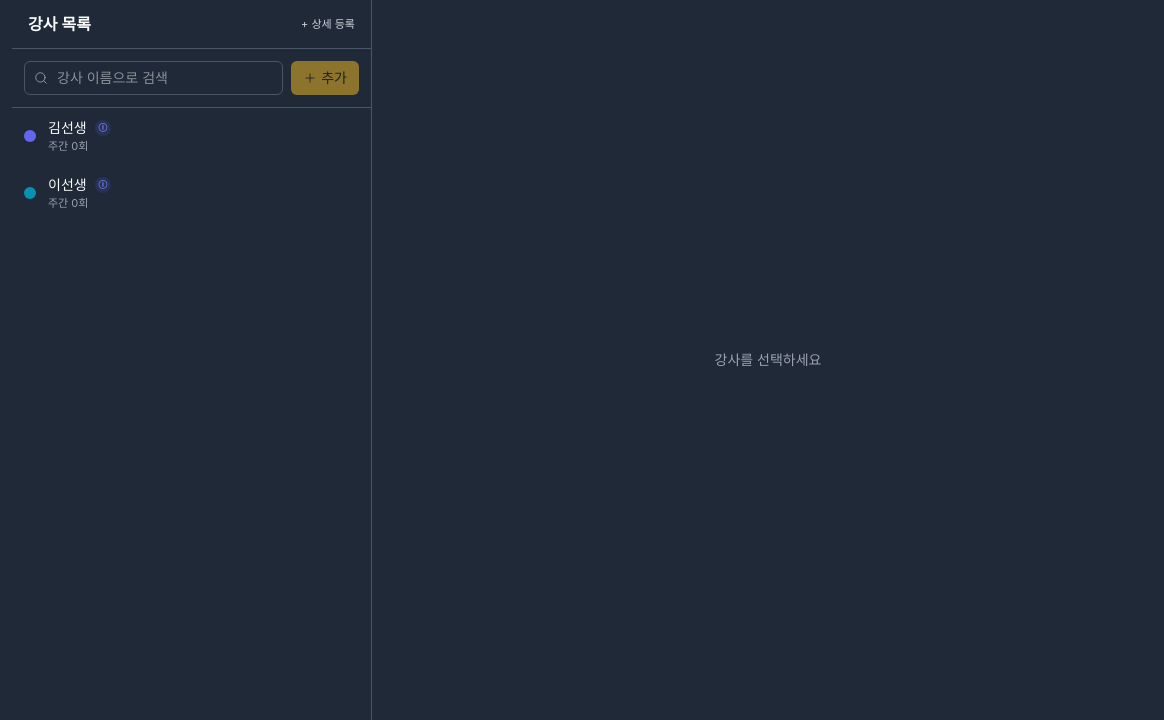
Scenario: TeachersPageLayout › 검색어로 필터링된다 (통합 input)
Type "김" into the field with placeholder "강사 이름으로 검색" at (154, 78), box [24, 61, 283, 95]
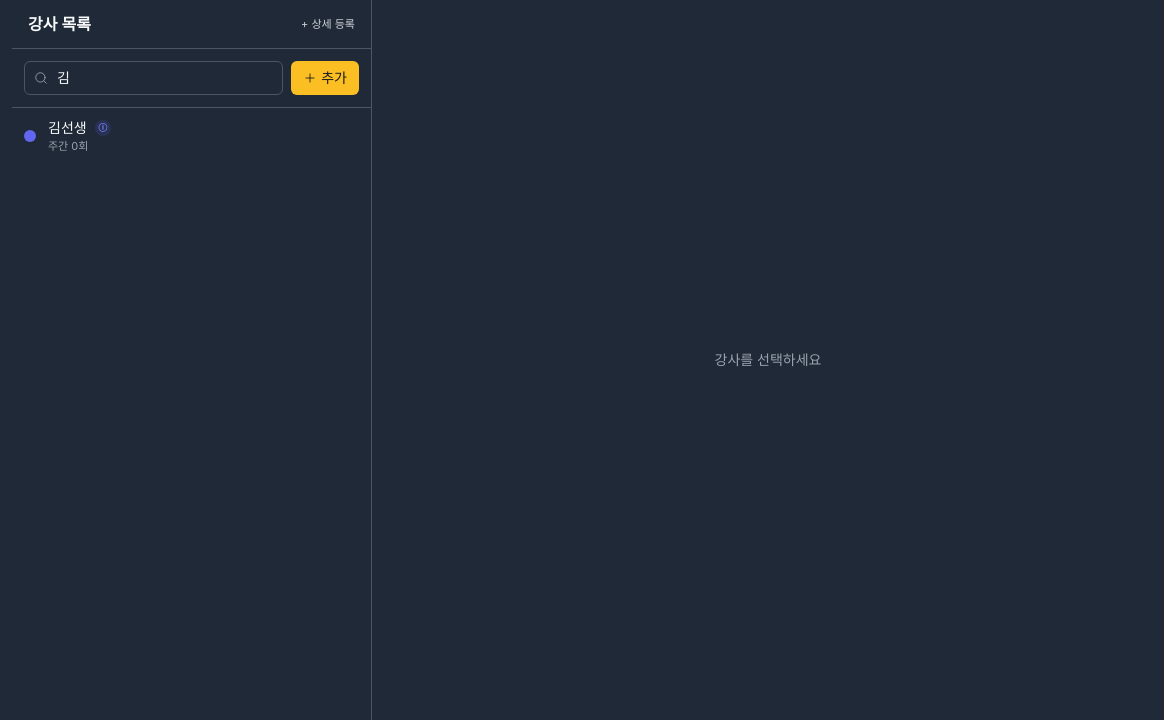
Expected: the text "김선생" is shown, [48, 118, 87, 138]
Result: the button "이선생" is gone
